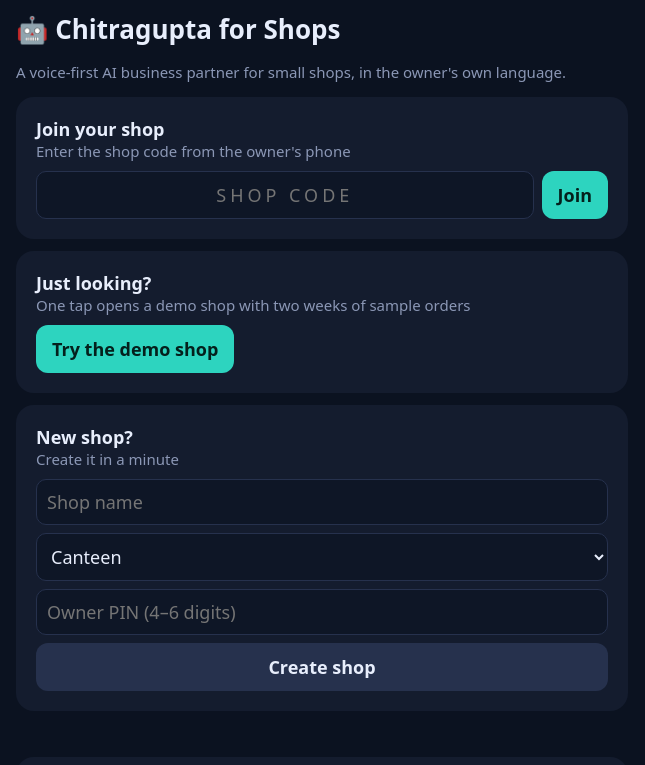
Landing (multi-shop) › the demo button stores a token for every role and shows the role tiles
This screenshot has width=645, height=765.
Click the button "Try the demo shop": (135, 349) [36,325,234,373]
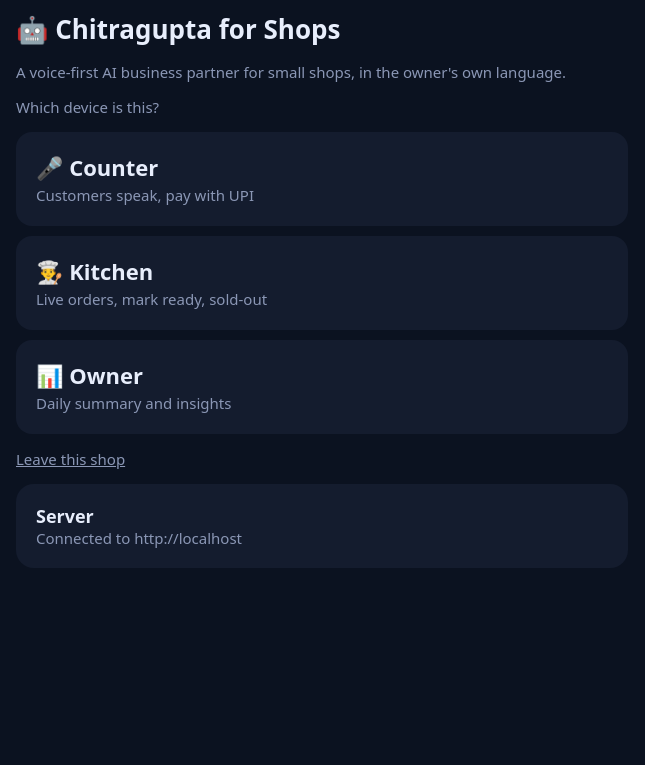
Check: the link "Counter" is shown, box [16,132,628,226]
